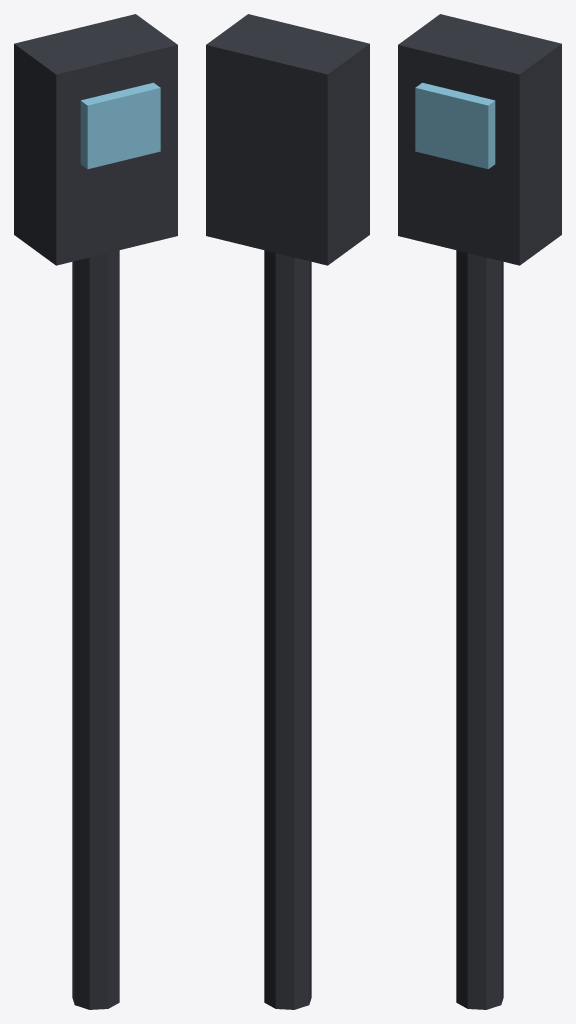
File: parking_meter.glb
3 views of the same model, side by side, from view 1: azimuth 30°, elevation 25°; view 2: azimuth 150°, elevation 25°; view 3: azimuth 330°, elevation 25° (orthographic).
Visible parts, largest first — view 1: parking_meter; view 2: parking_meter; view 3: parking_meter.
Part boxes in pixels (bbox=[...]): parking_meter: bbox=[14, 14, 177, 1009]; parking_meter: bbox=[206, 14, 369, 1009]; parking_meter: bbox=[398, 14, 561, 1009].
Bounding box in the file's own units: 0.2 × 1.5 × 0.14.
